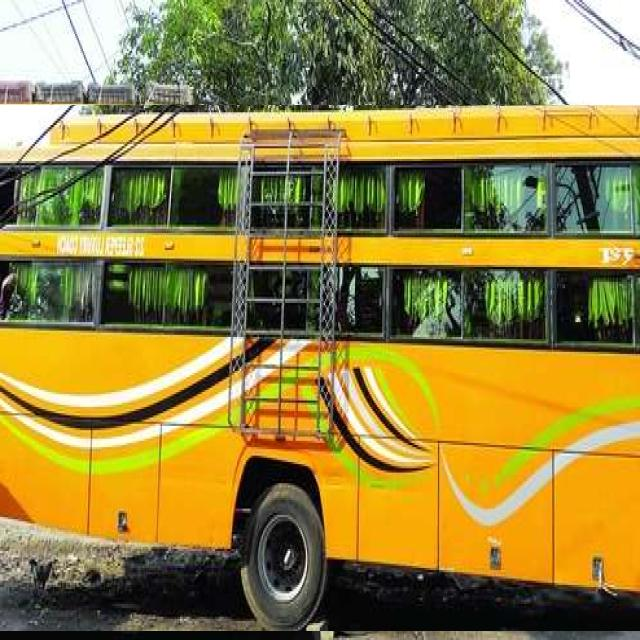bus: (0, 105, 640, 631)
